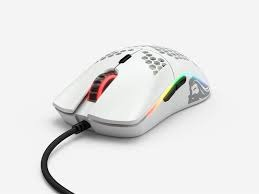mouse: (49, 48, 221, 137)
